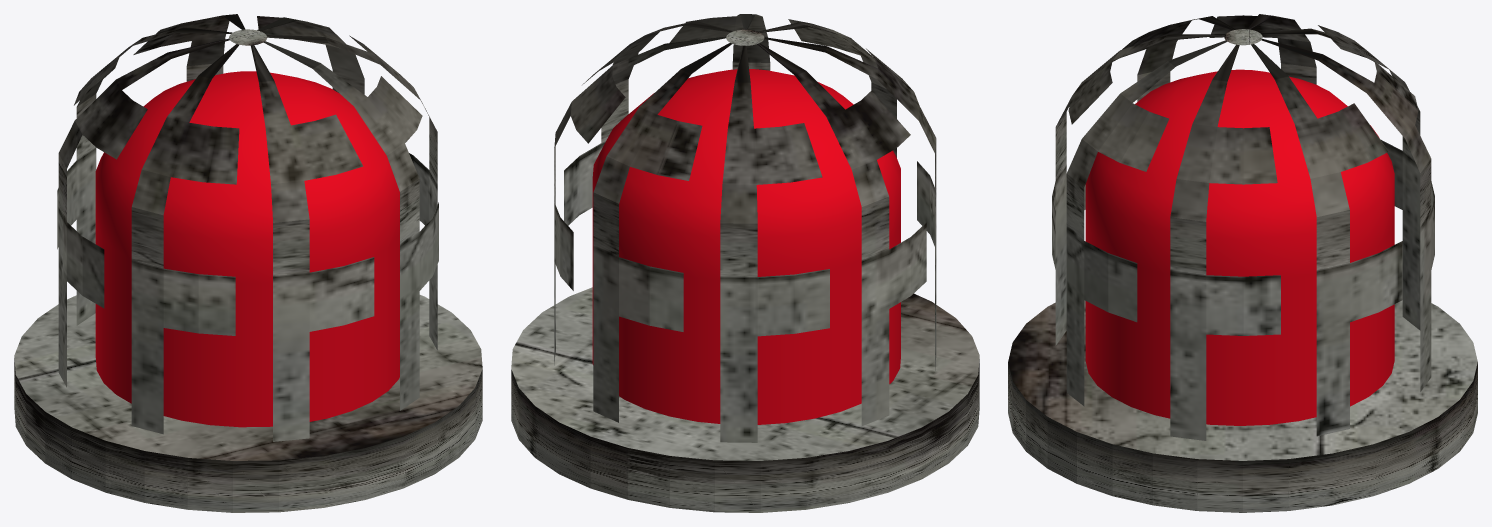
Rendered from LuzEmergencia.glb.
The picture shows the model from 3 angles, left to right: view 1: azimuth 30°, elevation 25°; view 2: azimuth 150°, elevation 25°; view 3: azimuth 270°, elevation 25°; orthographic projection.
Parts seen in each view (by area): view 1: Cilindro.005, Cilindro.004, Cilindro.002; view 2: Cilindro.005, Cilindro.004, Cilindro.002; view 3: Cilindro.005, Cilindro.004, Cilindro.002.
Boxes of the visible parts, x1,y1,x2,y2 form: Cilindro.005: [57, 14, 438, 441]; Cilindro.004: [95, 71, 399, 427]; Cilindro.002: [14, 295, 482, 512]; Cilindro.005: [554, 14, 936, 442]; Cilindro.004: [592, 69, 900, 424]; Cilindro.002: [511, 287, 979, 512]; Cilindro.005: [1052, 14, 1434, 440]; Cilindro.004: [1085, 69, 1394, 425]; Cilindro.002: [1008, 300, 1477, 512].
Bounding box in the file's own units: 0.6108 × 0.5403 × 0.6108.
Materials: 2 (1 with a texture image).
